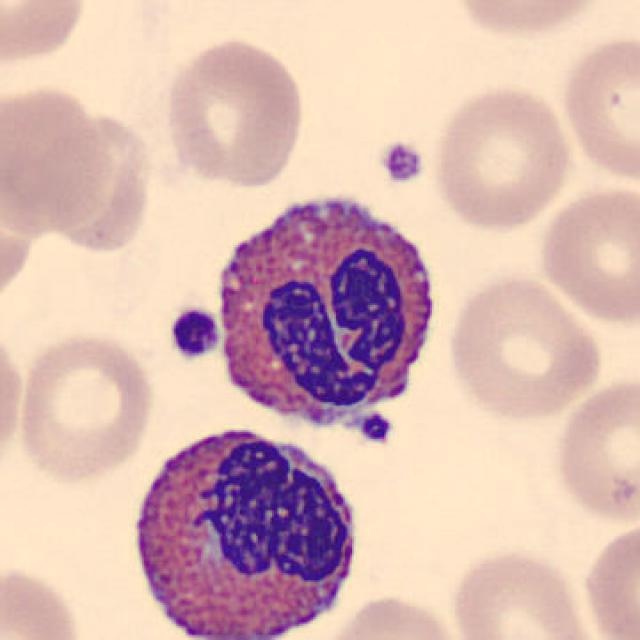Eosinophil: (202, 176, 450, 458), (119, 411, 370, 640)
Platelets: (165, 303, 224, 363), (377, 137, 428, 187), (357, 409, 395, 448)
RBC: (443, 268, 606, 425), (158, 34, 310, 190), (14, 328, 158, 487), (428, 81, 574, 235), (0, 80, 116, 236), (446, 543, 603, 640), (534, 182, 638, 326), (550, 372, 638, 527), (556, 30, 638, 187), (309, 590, 465, 640), (579, 516, 638, 640), (444, 0, 612, 41), (0, 562, 87, 640), (0, 0, 91, 71), (0, 317, 28, 474)
